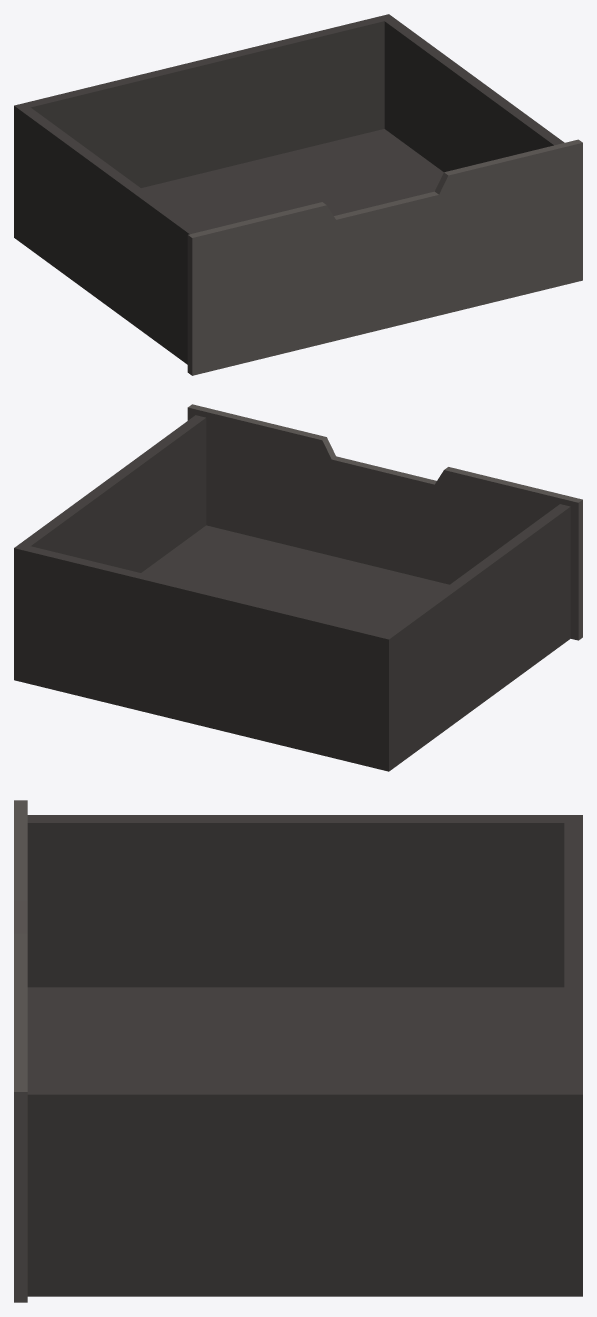
The model's file is Cupboard_17_02.fbx.
3 views of the same model, one above another, from view 1: azimuth 30°, elevation 25°; view 2: azimuth 150°, elevation 25°; view 3: azimuth 270°, elevation 25° (orthographic). The views are drawn at different scales.
Parts seen in each view (by area): view 1: Cupboard_17_02; view 2: Cupboard_17_02; view 3: Cupboard_17_02.
Boxes of the visible parts, bbox=[...] form: Cupboard_17_02: bbox=[14, 14, 582, 375]; Cupboard_17_02: bbox=[14, 404, 582, 771]; Cupboard_17_02: bbox=[14, 800, 582, 1302].
Bounding box in the file's own units: 55.6 × 18.74 × 45.87.
